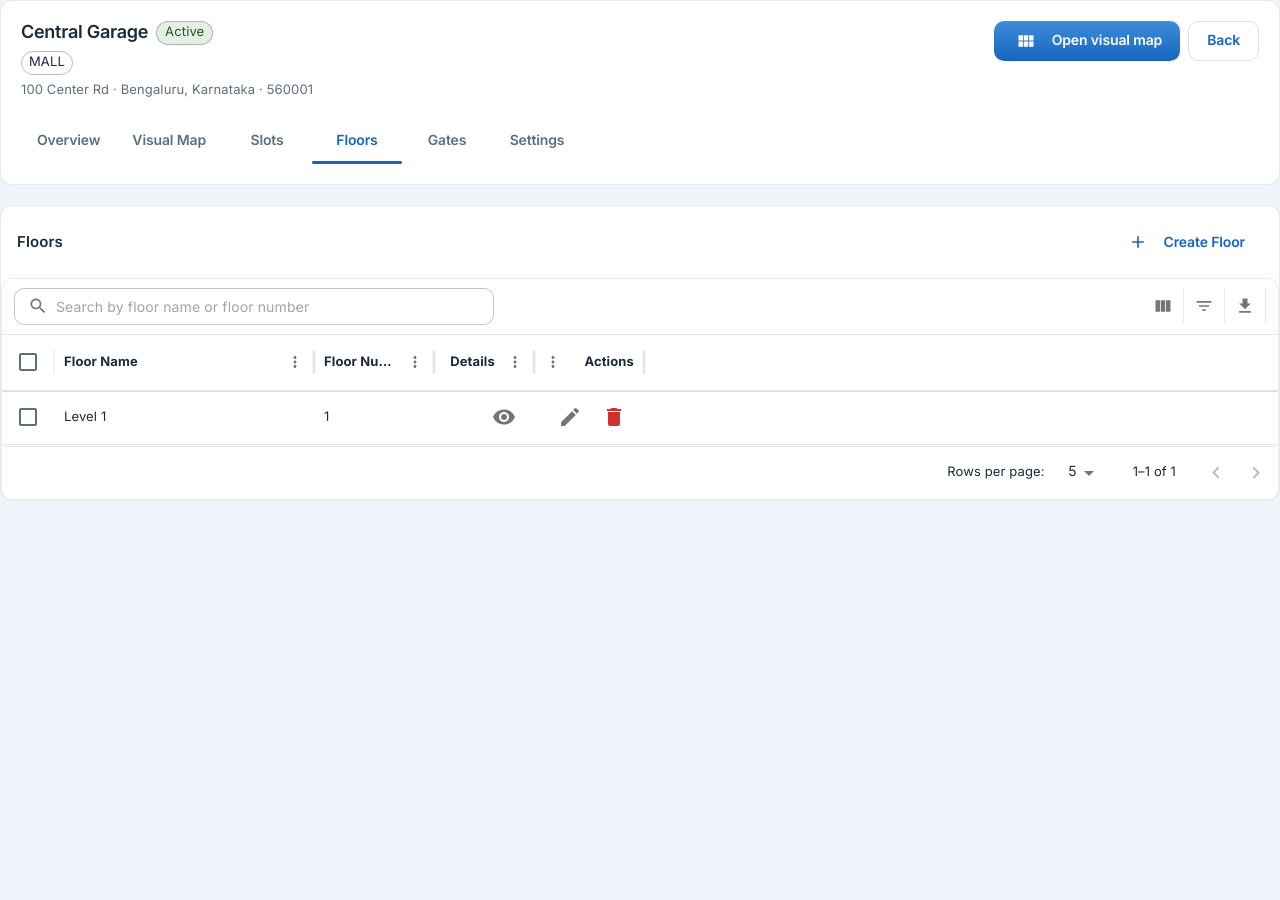
it: ParkingLotDetailsPage › edits a floor on floors tab
Expected: the text "Level 1" is shown, [64,409,106,425]
Click the button named "edit": click(570, 417) [550,397,590,437]
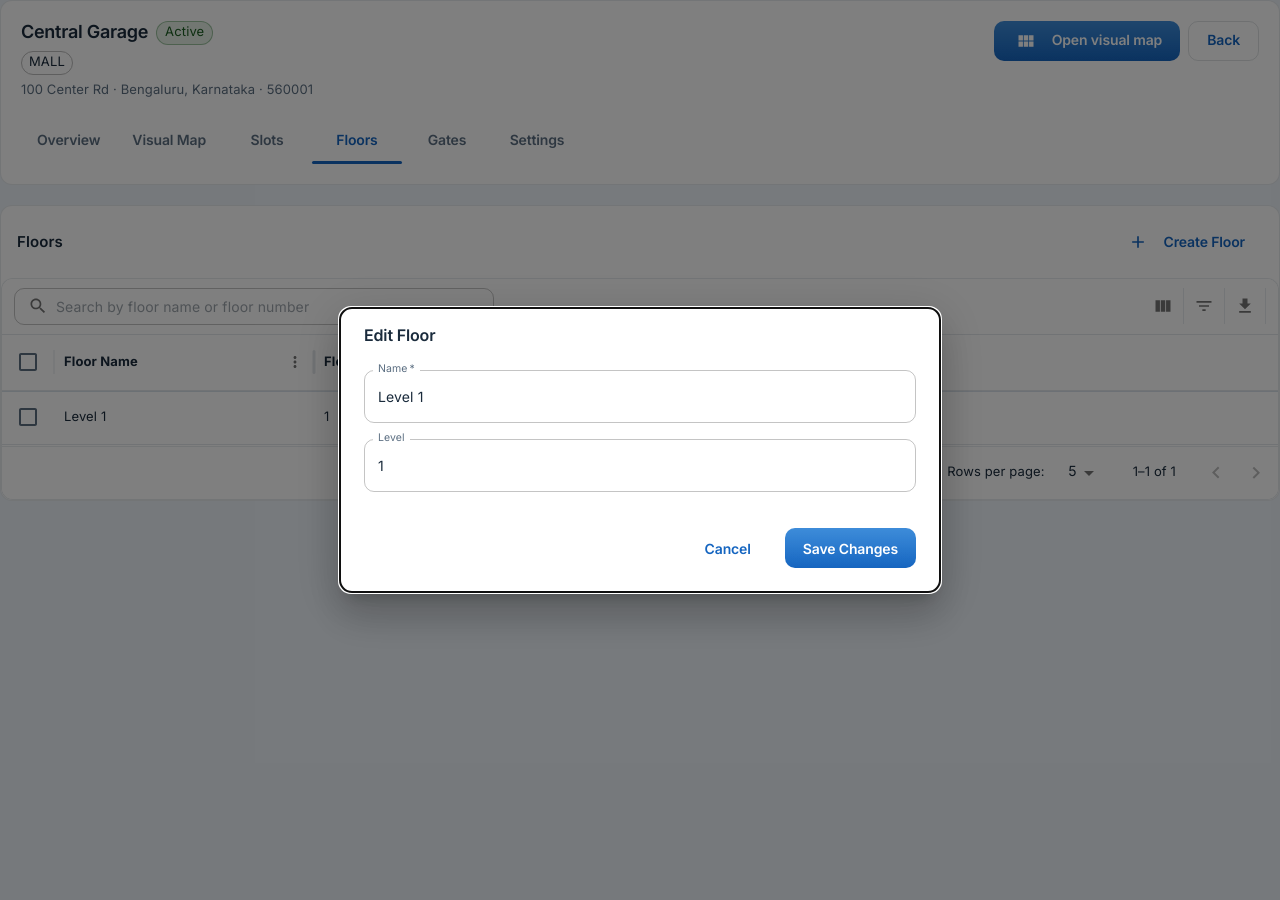
Replace the text in the field labelled "Name *" with "Ground Floor": (640, 397) [364,370,916,423]
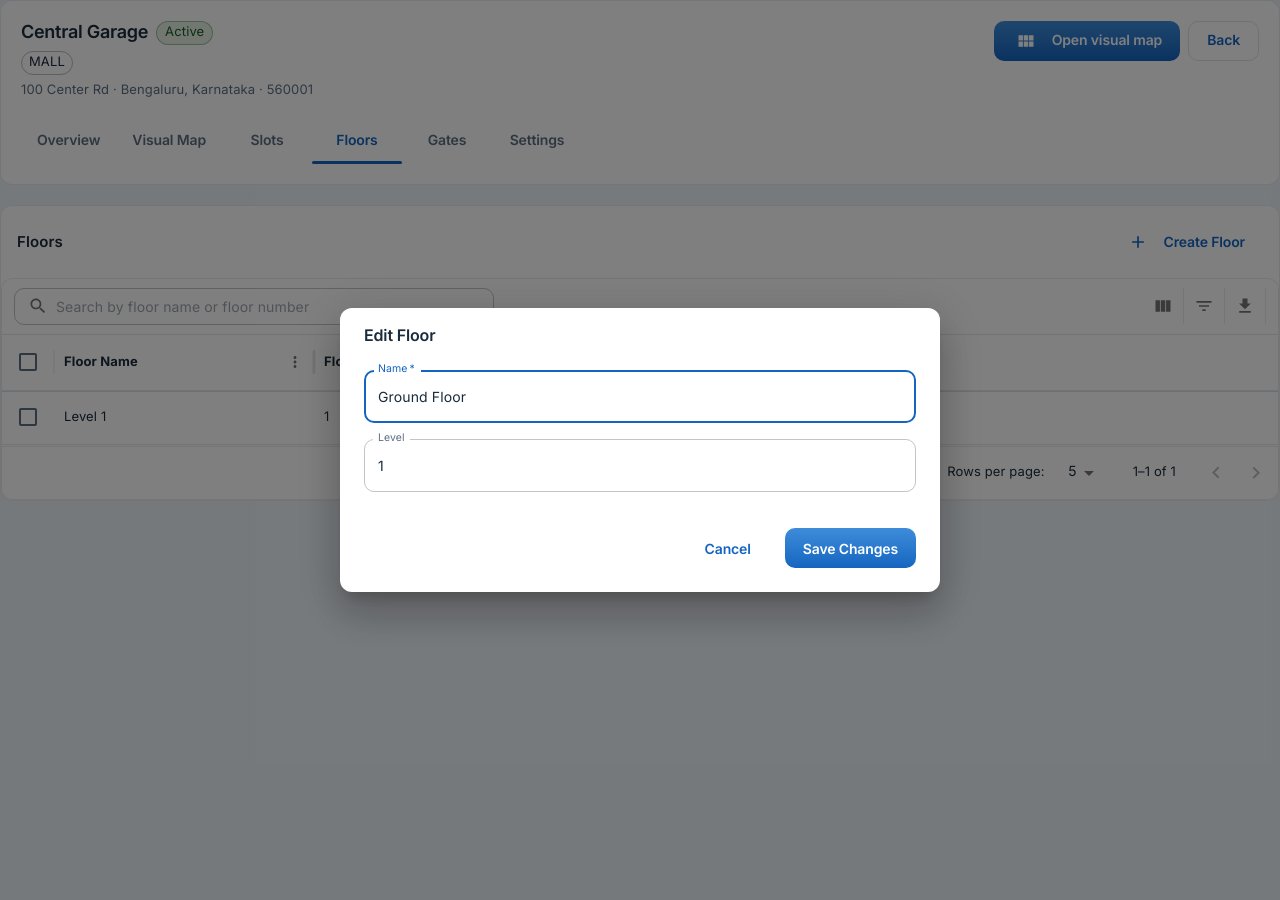
Click the button "Save Changes": click(850, 548) [785,528,916,568]
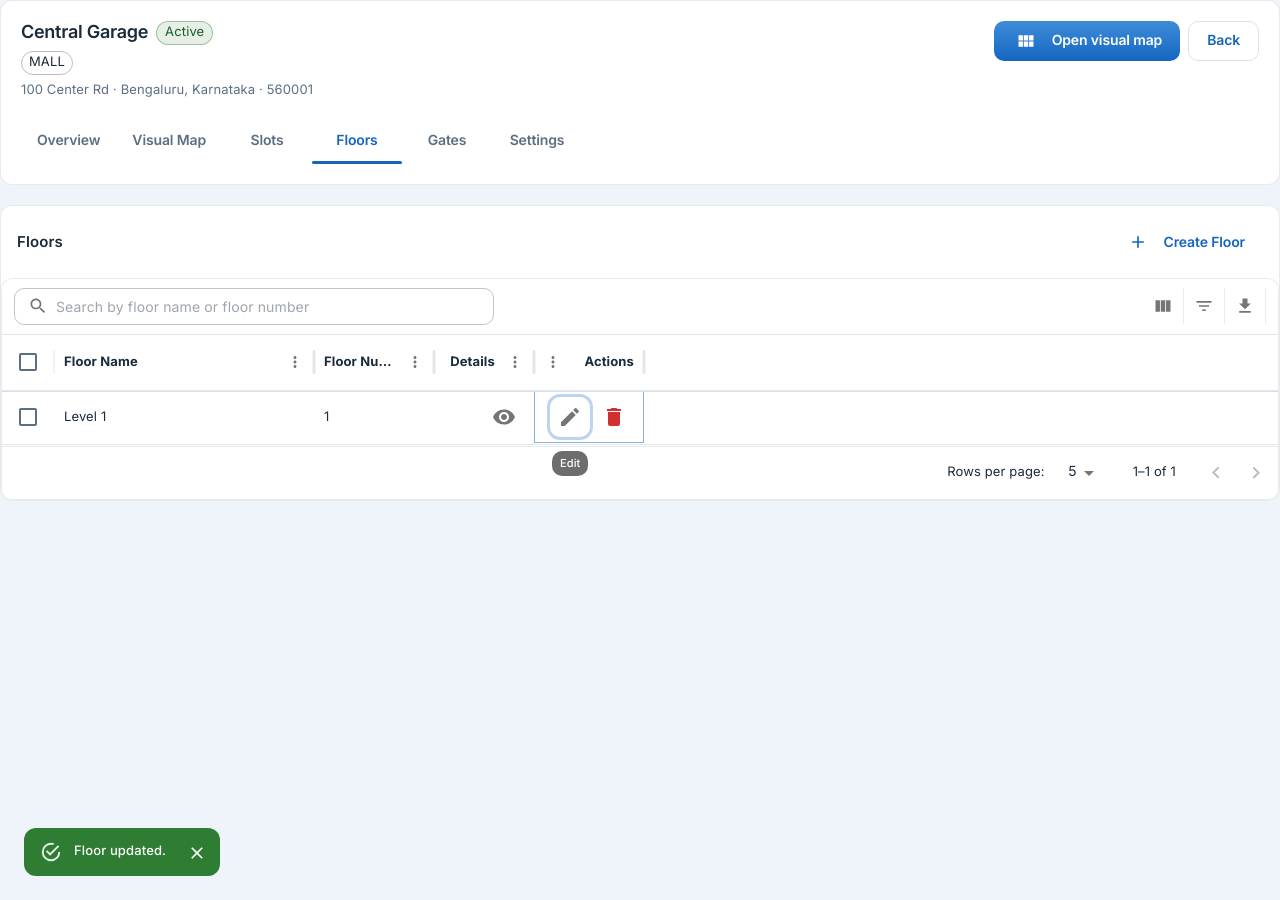
Result: the text "Floor updated." is shown at [74,843,166,859]
